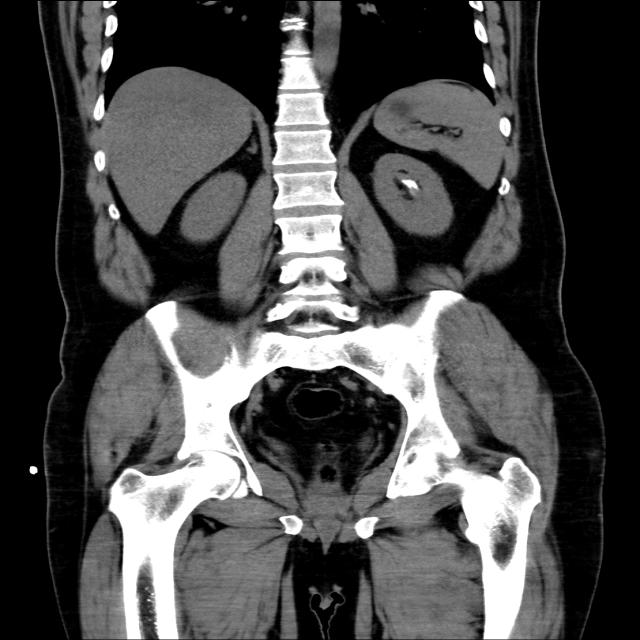kidneystone: (399, 175, 421, 192)
